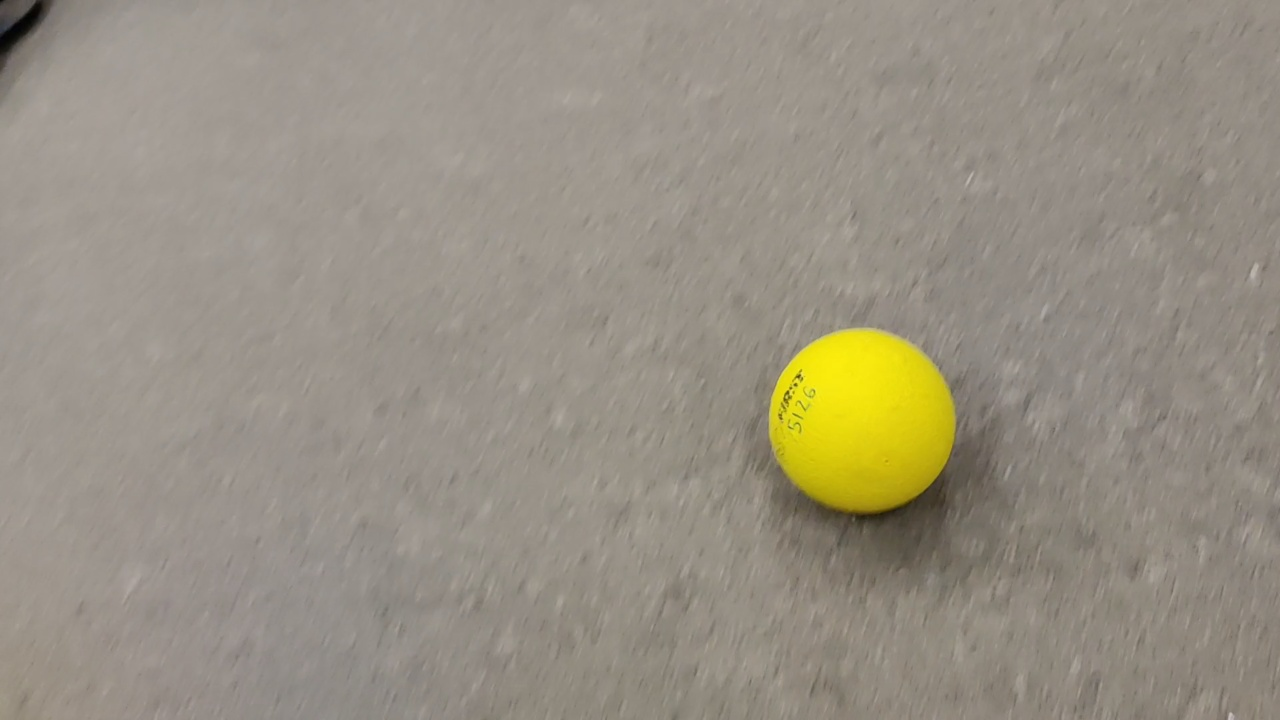Ball: (769, 327, 956, 517)
